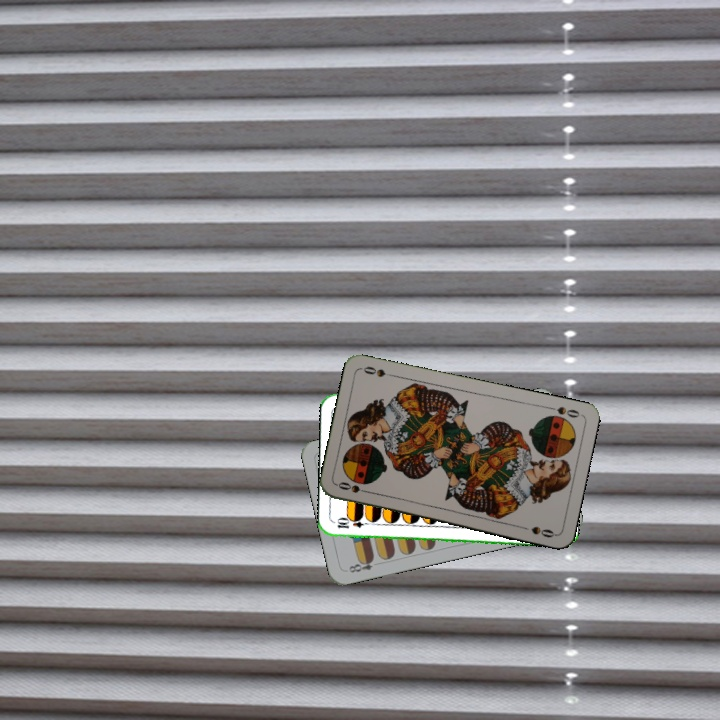E10: (333, 517, 373, 531)
E8: (345, 554, 376, 575)
SO: (334, 478, 374, 496), (543, 402, 582, 420)
